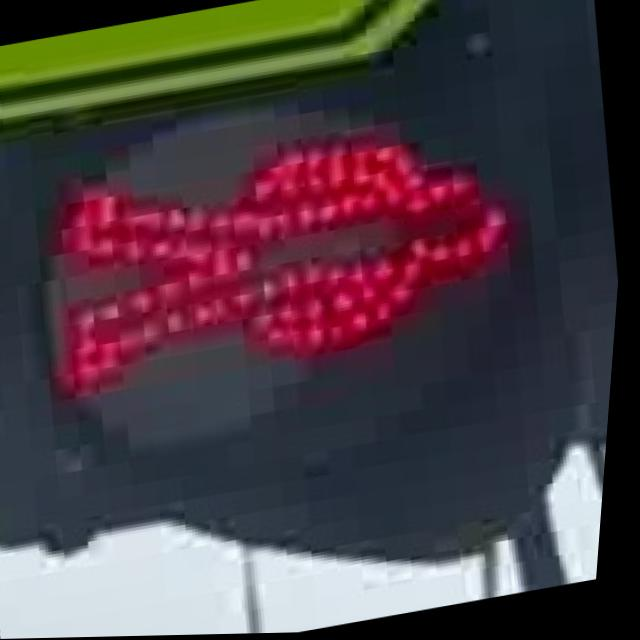red_light: (15, 81, 574, 437)
